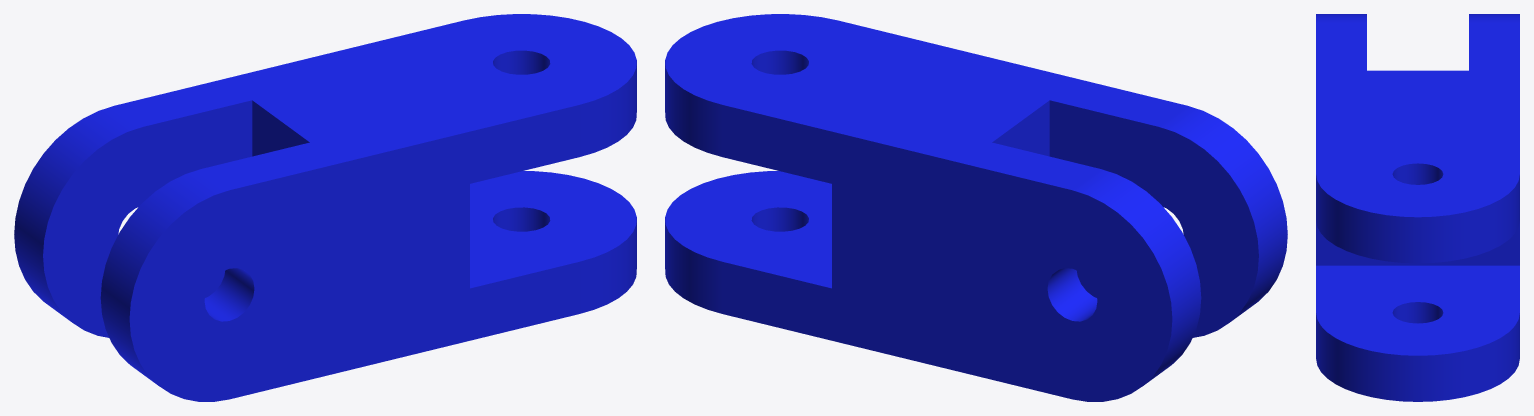
File: asset.glb
3 renders of one model, left to right at view 1: azimuth 30°, elevation 25°; view 2: azimuth 150°, elevation 25°; view 3: azimuth 270°, elevation 25°, orthographic. The views are drawn at different scales.
Visible parts, largest first — view 1: Solid2; view 2: Solid2; view 3: Solid2.
Part boxes in pixels (<box>): Solid2: <box>14,14,636,401</box>; Solid2: <box>665,14,1287,401</box>; Solid2: <box>1316,14,1519,401</box>.
Size of the model in its own units: 0.176 by 0.064 by 0.064.
